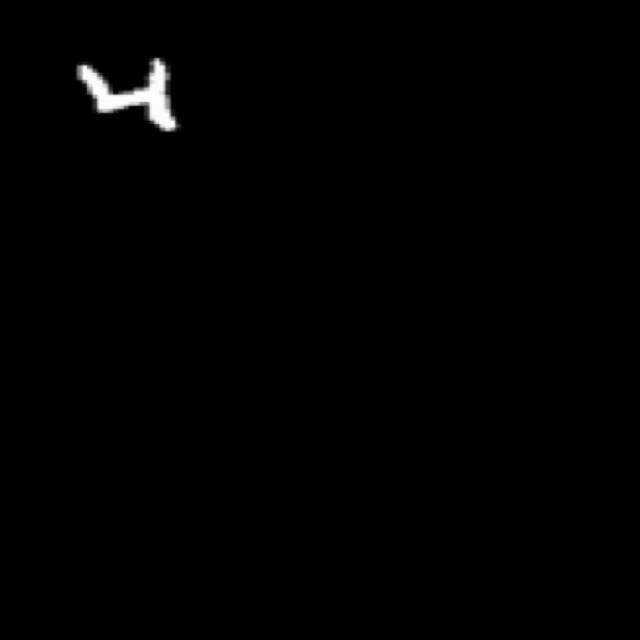four -4-: (67, 52, 195, 149)
